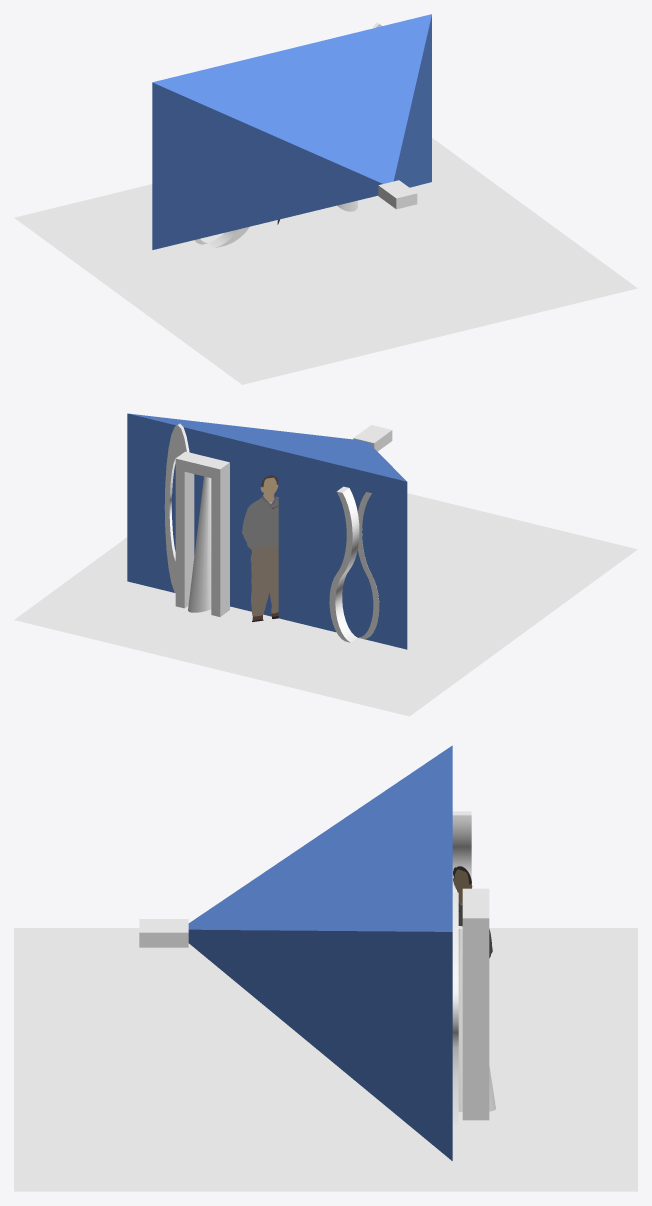
File: SET_14_CuadroFotos_FIguras.obj
The picture shows the model from 3 angles, top to bottom: view 1: azimuth 30°, elevation 25°; view 2: azimuth 150°, elevation 25°; view 3: azimuth 270°, elevation 25°; orthographic projection. The views are drawn at different scales.
Parts seen in each view (by area): view 1: Mesh2 Component_9_1 Model, Mesh3 Component_67_1 Component_66_1 Component_65_1 Model, Mesh4 Component_6_1 Component_66_1 Component_65_1 Model; view 2: Mesh2 Component_9_1 Model, Mesh3 Component_67_1 Component_66_1 Component_65_1 Model, Mesh7 Component_93_1 Model, Mesh1 Derrick1 Model, Mesh6 Component_92_1 Model, Mesh10 Component_91_3 Component_94_1 Model, Mesh5 Component_90_1 Model, Mesh9 Component_91_2 Component_94_1 Model, Mesh4 Component_6_1 Component_66_1 Component_65_1 Model; view 3: Mesh2 Component_9_1 Model, Mesh3 Component_67_1 Component_66_1 Component_65_1 Model, Mesh7 Component_93_1 Model, Mesh5 Component_90_1 Model, Mesh4 Component_6_1 Component_66_1 Component_65_1 Model, Mesh10 Component_91_3 Component_94_1 Model, Mesh6 Component_92_1 Model, Mesh1 Derrick1 Model.
Part boxes in pixels (x1=…): Mesh2 Component_9_1 Model: x1=14, y1=138, x2=637, y2=384; Mesh3 Component_67_1 Component_66_1 Component_65_1 Model: x1=152, y1=14, x2=431, y2=249; Mesh4 Component_6_1 Component_66_1 Component_65_1 Model: x1=378, y1=180, x2=417, y2=209; Mesh2 Component_9_1 Model: x1=14, y1=493, x2=637, y2=716; Mesh3 Component_67_1 Component_66_1 Component_65_1 Model: x1=127, y1=413, x2=407, y2=649; Mesh7 Component_93_1 Model: x1=175, y1=451, x2=229, y2=616; Mesh1 Derrick1 Model: x1=242, y1=475, x2=278, y2=621; Mesh6 Component_92_1 Model: x1=188, y1=476, x2=211, y2=612; Mesh10 Component_91_3 Component_94_1 Model: x1=329, y1=486, x2=359, y2=642; Mesh5 Component_90_1 Model: x1=164, y1=423, x2=189, y2=592; Mesh9 Component_91_2 Component_94_1 Model: x1=358, y1=492, x2=379, y2=638; Mesh4 Component_6_1 Component_66_1 Component_65_1 Model: x1=353, y1=425, x2=392, y2=451; Mesh2 Component_9_1 Model: x1=14, y1=928, x2=637, y2=1191; Mesh3 Component_67_1 Component_66_1 Component_65_1 Model: x1=188, y1=745, x2=452, y2=1160; Mesh7 Component_93_1 Model: x1=462, y1=888, x2=489, y2=1120; Mesh5 Component_90_1 Model: x1=452, y1=892, x2=458, y2=1125; Mesh4 Component_6_1 Component_66_1 Component_65_1 Model: x1=139, y1=919, x2=188, y2=947; Mesh10 Component_91_3 Component_94_1 Model: x1=452, y1=811, x2=471, y2=892; Mesh6 Component_92_1 Model: x1=458, y1=926, x2=495, y2=1111; Mesh1 Derrick1 Model: x1=453, y1=866, x2=492, y2=958.
Size of the model in its own units: 5000 by 2074 by 5000.
